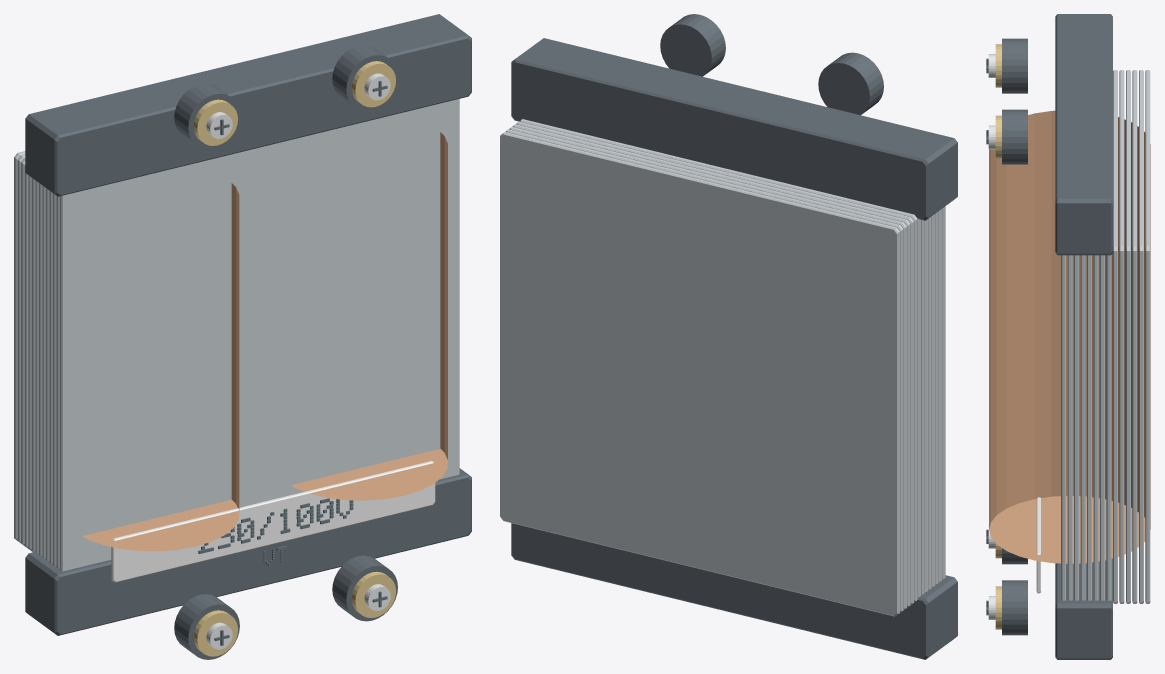
The model's file is voltageTransformer.glb.
3 views of the same model, side by side, from view 1: azimuth 30°, elevation 25°; view 2: azimuth 150°, elevation 25°; view 3: azimuth 270°, elevation 25° (orthographic). The views are drawn at different scales.
Parts seen in each view (by area): view 1: voltageTransformer-detailed; view 2: voltageTransformer-detailed; view 3: voltageTransformer-detailed.
Boxes of the visible parts, x1,y1,x2,y2 form: voltageTransformer-detailed: (14,14,471,659); voltageTransformer-detailed: (500,14,957,659); voltageTransformer-detailed: (986,14,1150,659).
Size of the model in its own units: 2.53 by 3.27 by 0.9344.
